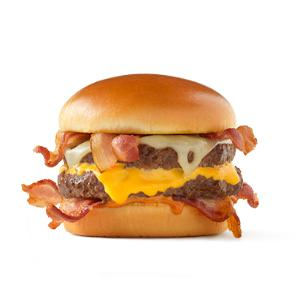cheeseburger_475cal: (22, 61, 271, 249)
